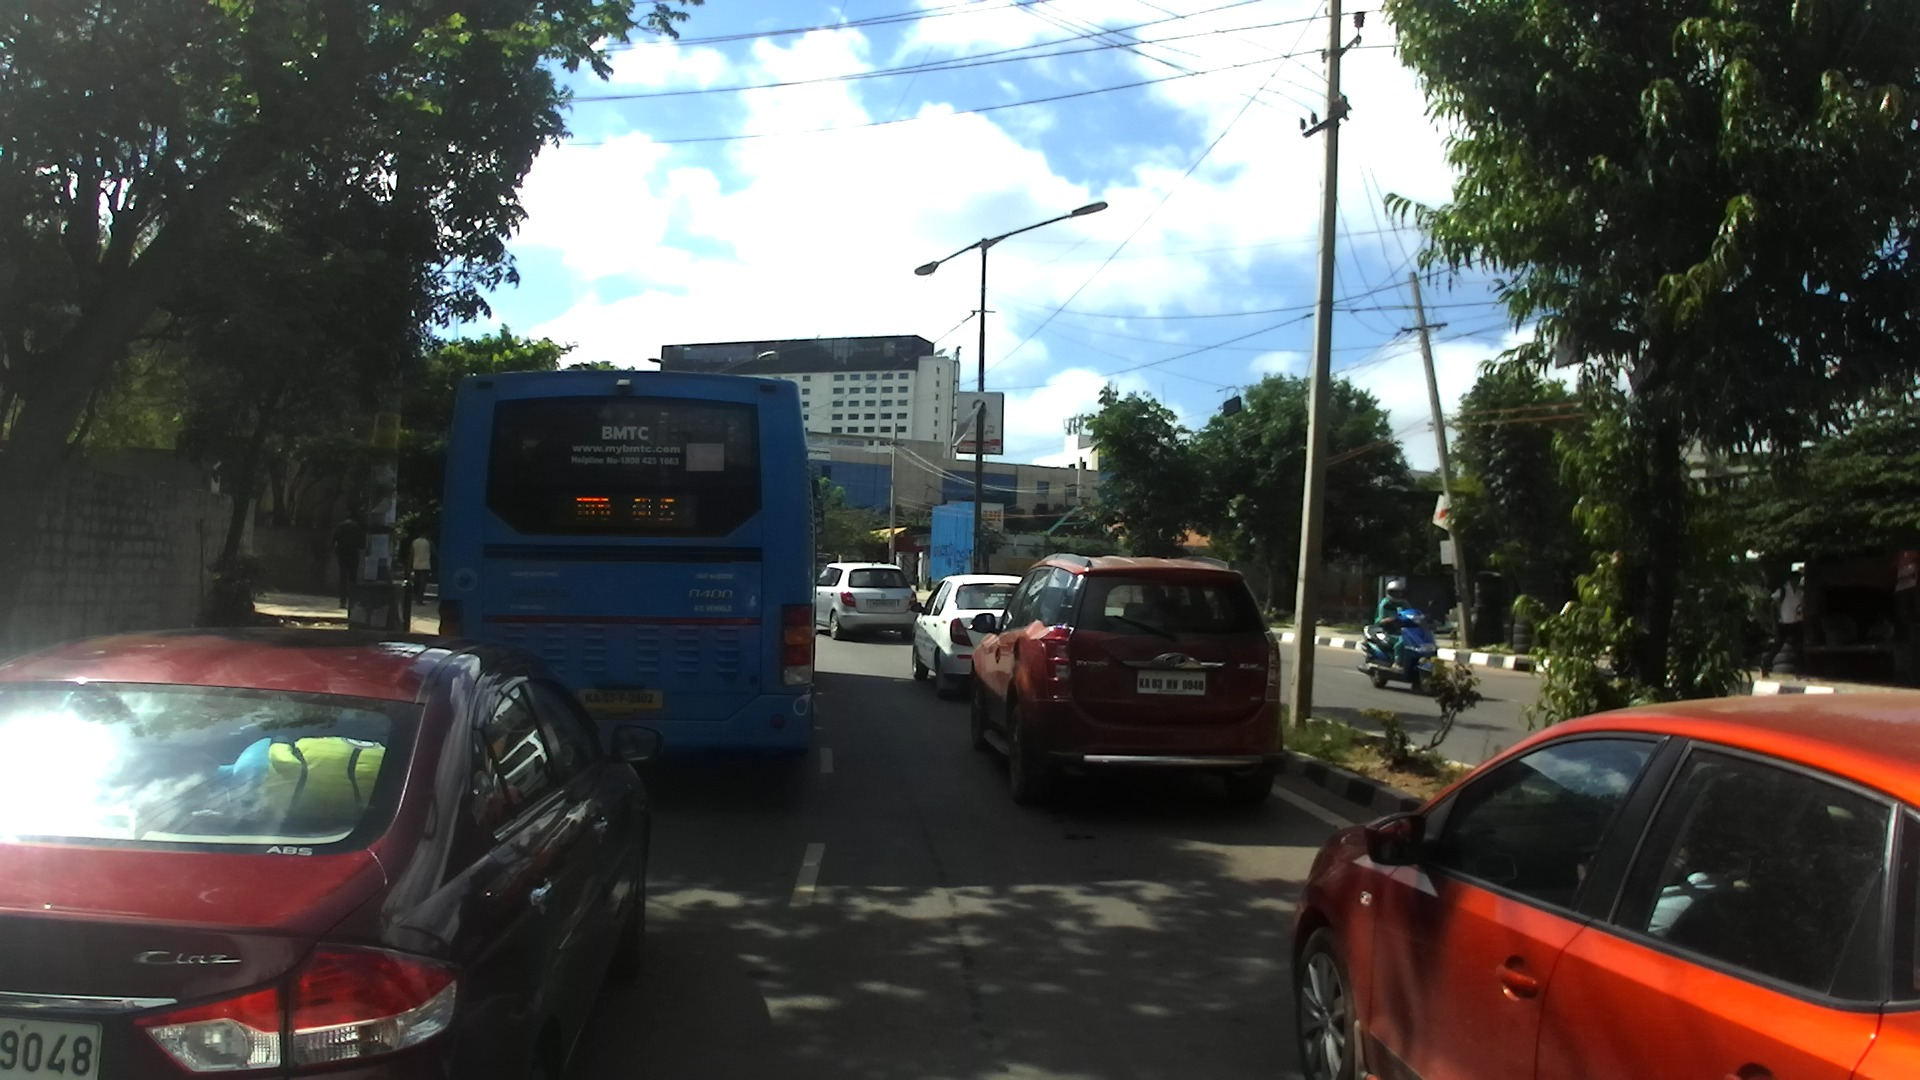bus: (434, 363, 819, 782)
car: (2, 626, 663, 1078), (1287, 691, 1920, 1078), (966, 550, 1289, 808), (910, 572, 1026, 701), (814, 559, 920, 644)
motorcycle: (1357, 597, 1444, 695)
person: (1759, 570, 1808, 680), (327, 508, 368, 609), (405, 521, 439, 609)
rider: (1369, 578, 1414, 675)
